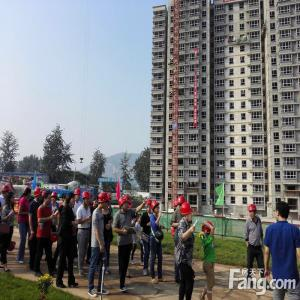none: (274, 202, 291, 224), (67, 193, 77, 207), (43, 193, 53, 207), (6, 192, 16, 206), (24, 187, 32, 199), (137, 214, 144, 223), (94, 197, 99, 207)
red: (181, 204, 194, 223), (99, 192, 109, 210), (248, 204, 258, 220), (82, 191, 91, 207), (204, 222, 214, 236), (119, 198, 129, 212), (152, 201, 161, 215), (34, 189, 43, 202), (179, 197, 187, 211), (146, 199, 153, 213), (74, 190, 82, 202), (2, 185, 10, 197), (52, 191, 59, 203), (175, 199, 179, 210)
